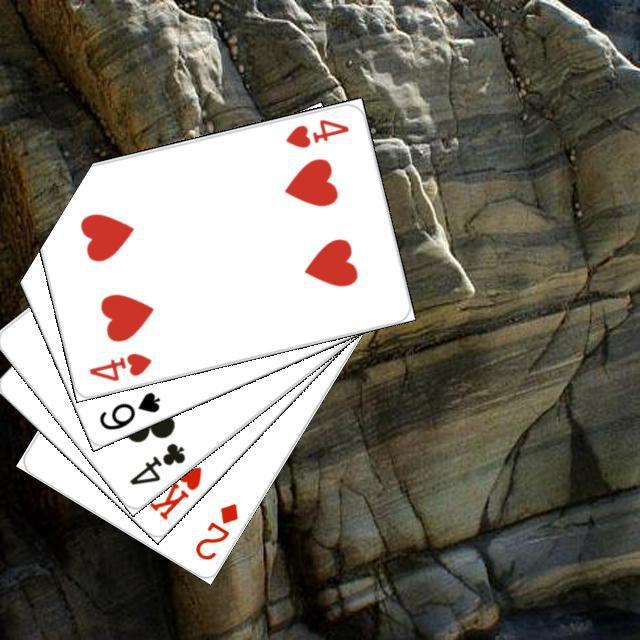2d: (190, 498, 241, 562)
4c: (124, 437, 187, 487)
4h: (280, 114, 351, 150), (84, 348, 154, 383)
6s: (94, 387, 162, 432)
Kh: (144, 446, 204, 522)
